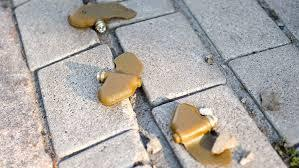PMF 1: (171, 103, 233, 167), (97, 52, 146, 106), (67, 4, 138, 34)
